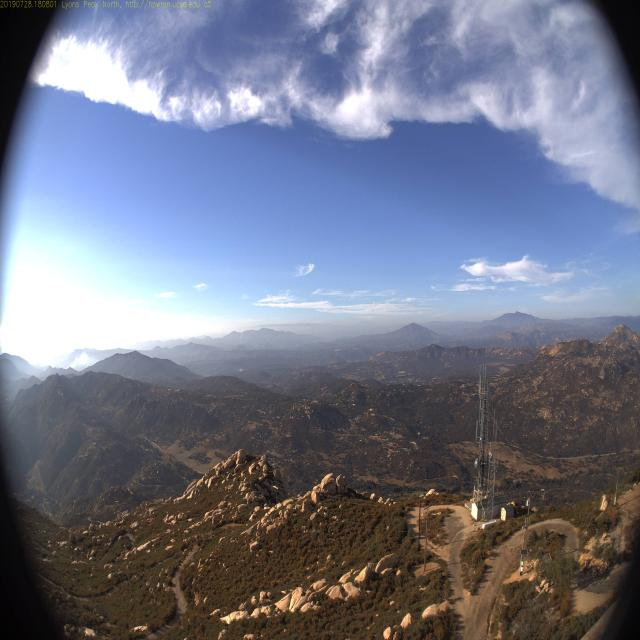smoke: (64, 350, 102, 390)
